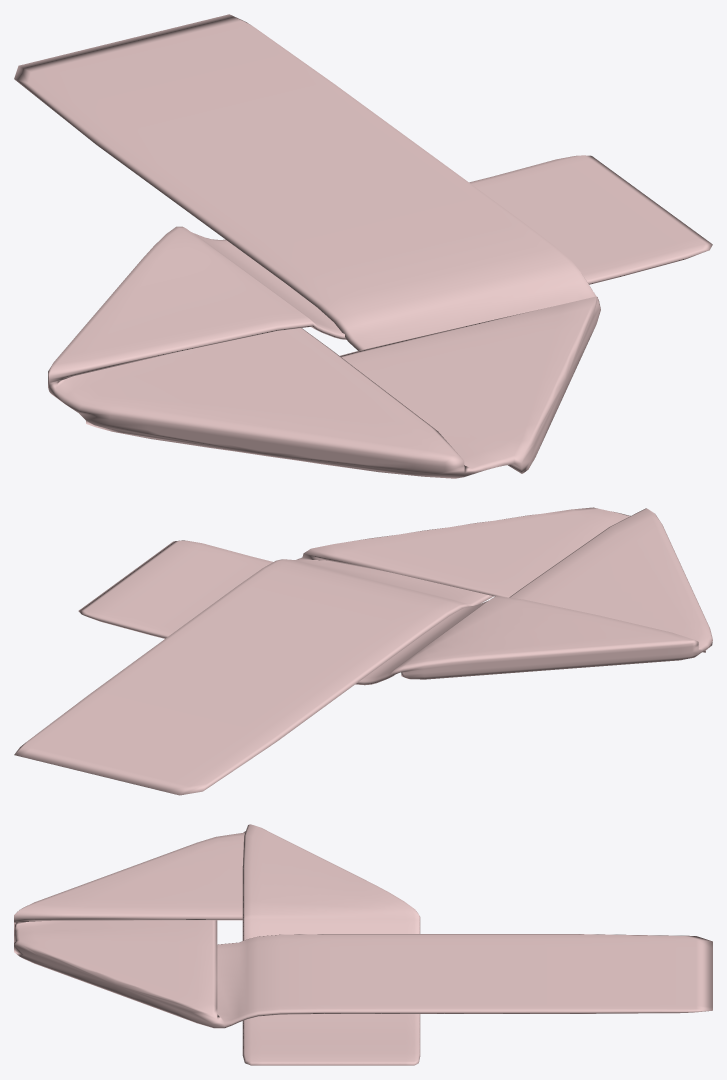
The model's file is note_pink_folded.fbx.
3 renders of one model, top to bottom at view 1: azimuth 30°, elevation 25°; view 2: azimuth 150°, elevation 25°; view 3: azimuth 270°, elevation 25°, orthographic. The views are drawn at different scales.
Visible parts, largest first — view 1: pink_folded_paper; view 2: pink_folded_paper; view 3: pink_folded_paper.
Boxes of the visible parts, x1=… form: pink_folded_paper: x1=14, y1=14, x2=712, y2=478; pink_folded_paper: x1=14, y1=507, x2=712, y2=795; pink_folded_paper: x1=14, y1=824, x2=712, y2=1065.
Bounding box in the file's own units: 20.56 × 1.52 × 27.78.
